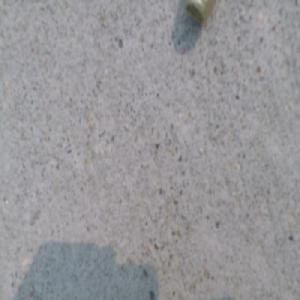BoltNutSet: (186, 1, 211, 21)
